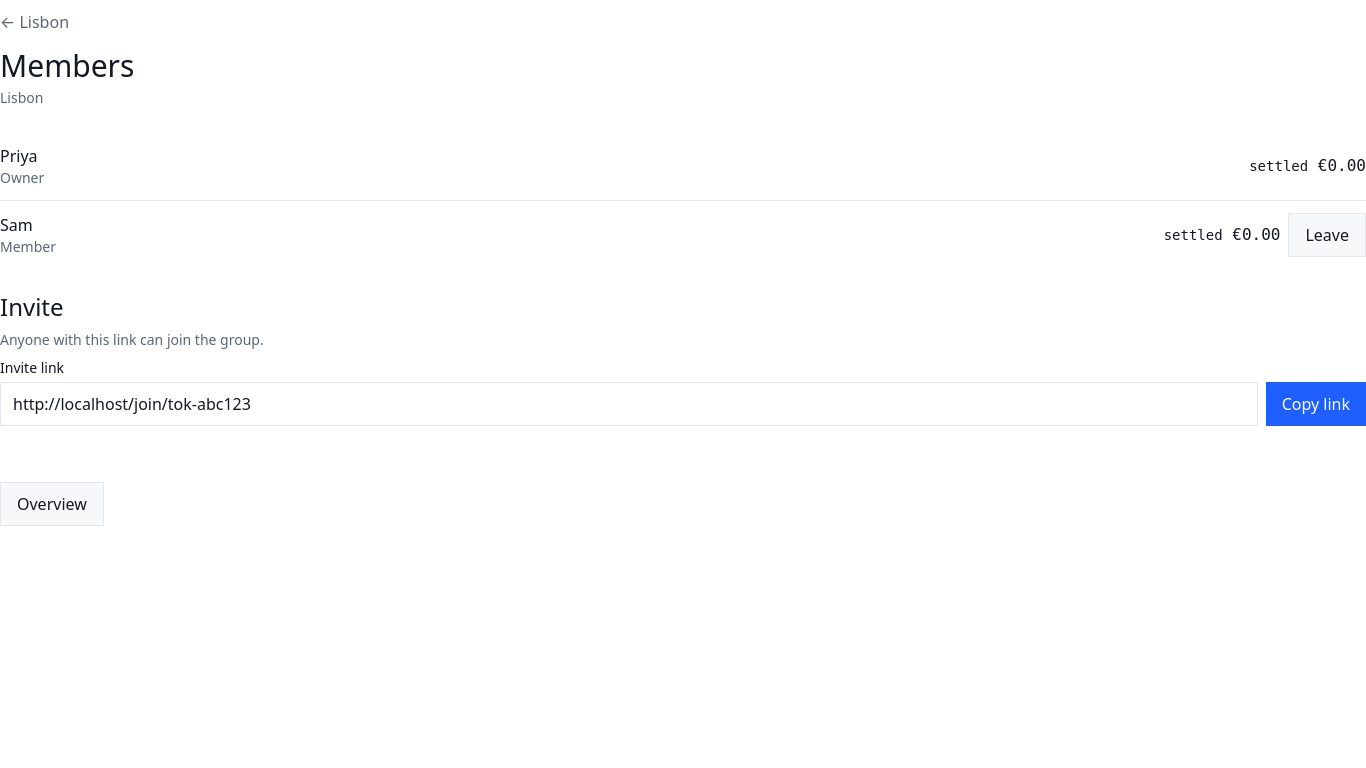
it: the members screen › confirms a leave in a dialog that names the group
Click the button "Leave" at (1327, 235), box [1288,213,1365,257]
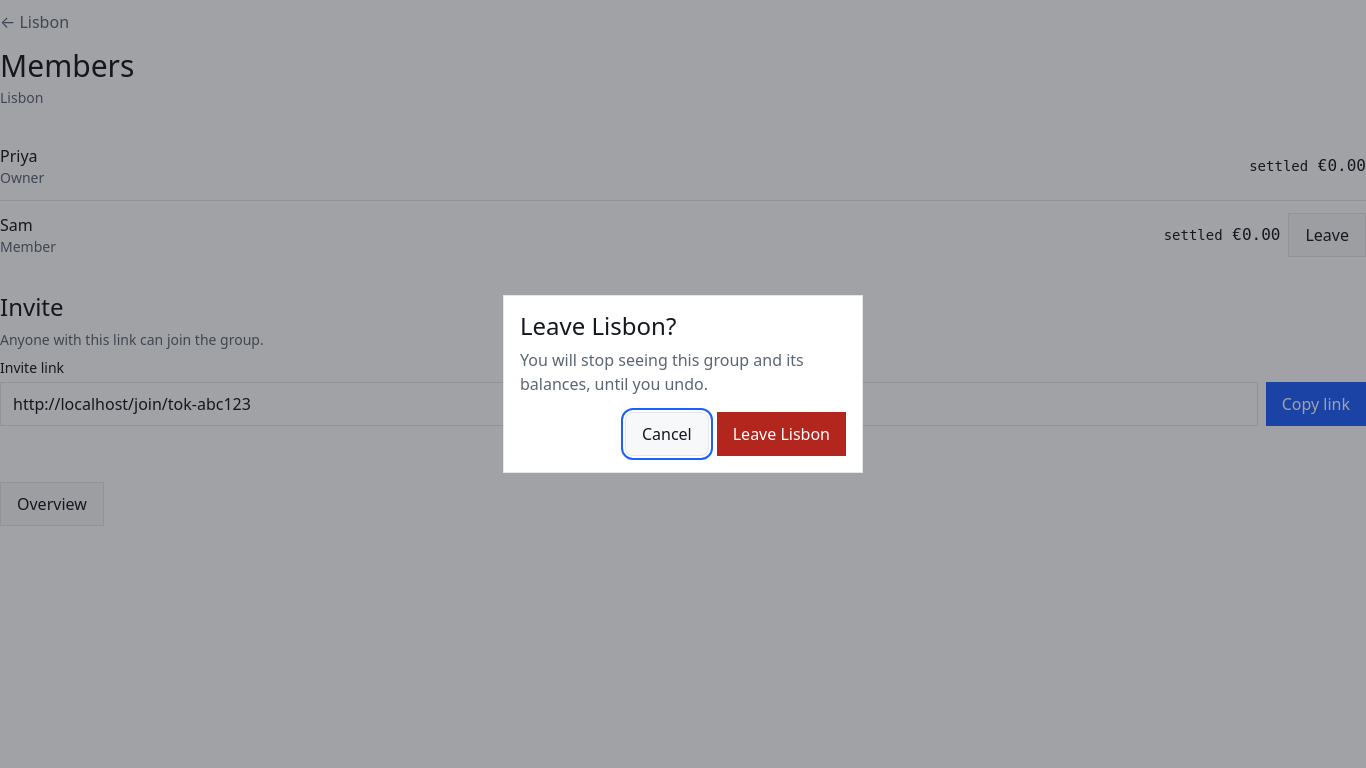
Now the heading "Leave Lisbon?" is shown, box [520,309,676,342]
Now the dialog shows "You will stop seeing this group and its balances, until you undo.", box [520,349,804,395]
